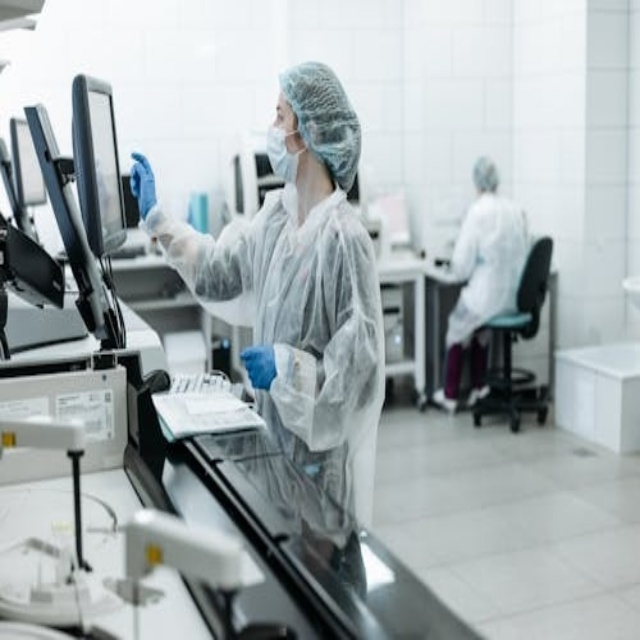Guantes: (129, 152, 158, 223), (239, 343, 278, 391)
Mascara: (265, 125, 310, 188)
Sin_gafas: (270, 100, 294, 130)
